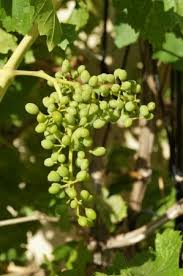grapes: (33, 67, 150, 235)
